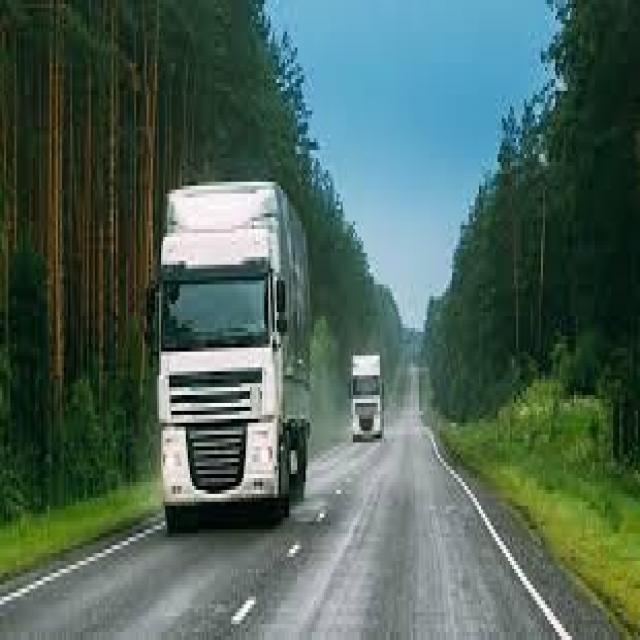truck: (133, 96, 318, 534), (333, 331, 397, 453)
